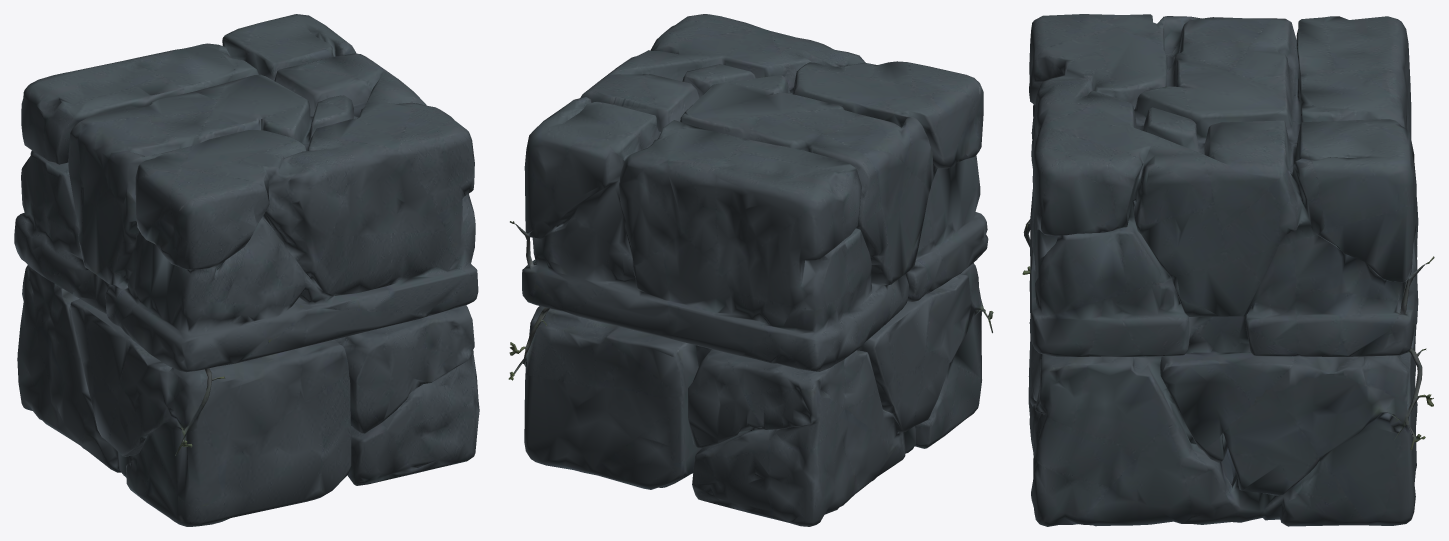
File: og_block.glb
3 views of the same model, side by side, from view 1: azimuth 30°, elevation 25°; view 2: azimuth 150°, elevation 25°; view 3: azimuth 270°, elevation 25° (orthographic). The views are drawn at different scales.
Size of the model in its own units: 1.84 by 1.85 by 1.9.
Materials: 1 (1 with a texture image).
